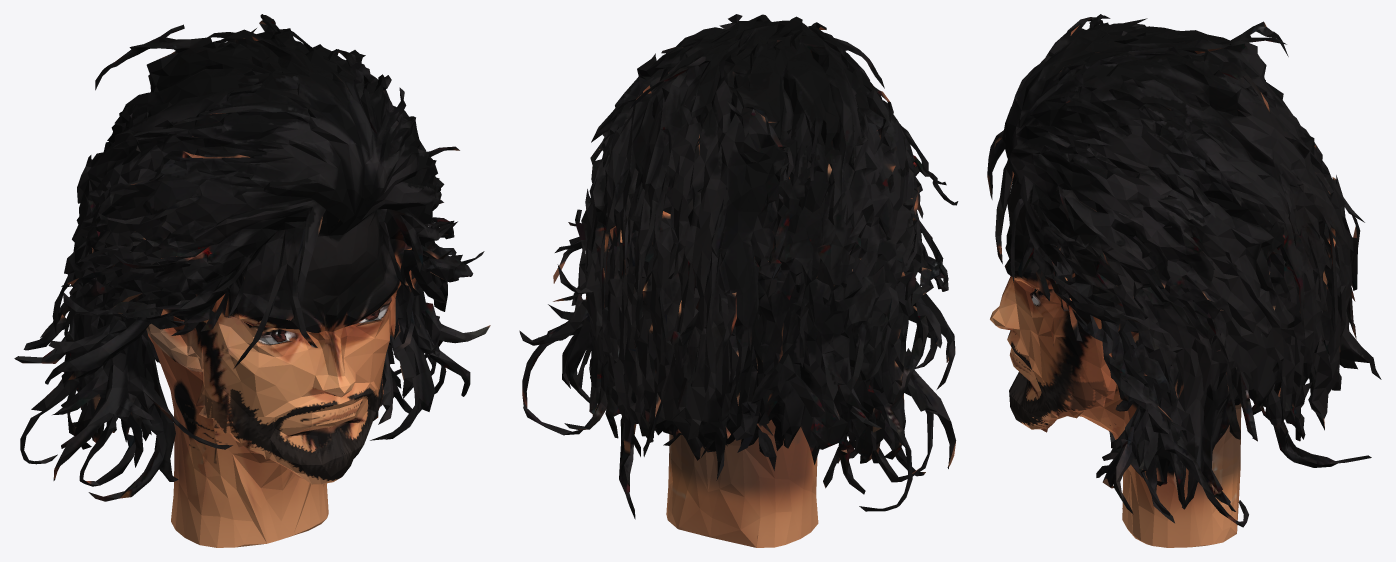
Rendered from side_imuro_repaired_atlas.glb.
3 views of the same model, side by side, from view 1: azimuth 30°, elevation 25°; view 2: azimuth 150°, elevation 25°; view 3: azimuth 270°, elevation 25° (orthographic). The views are drawn at different scales.
Visible parts, largest first — view 1: temp_mesh.ply; view 2: temp_mesh.ply; view 3: temp_mesh.ply.
Part boxes in pixels (left/top/right/bottom): temp_mesh.ply: left=14, top=14, right=490, bottom=547; temp_mesh.ply: left=519, top=14, right=958, bottom=547; temp_mesh.ply: left=987, top=14, right=1381, bottom=547.
Size of the model in its own units: 1.82 by 1.97 by 1.47.
Materials: 1 (1 with a texture image).
